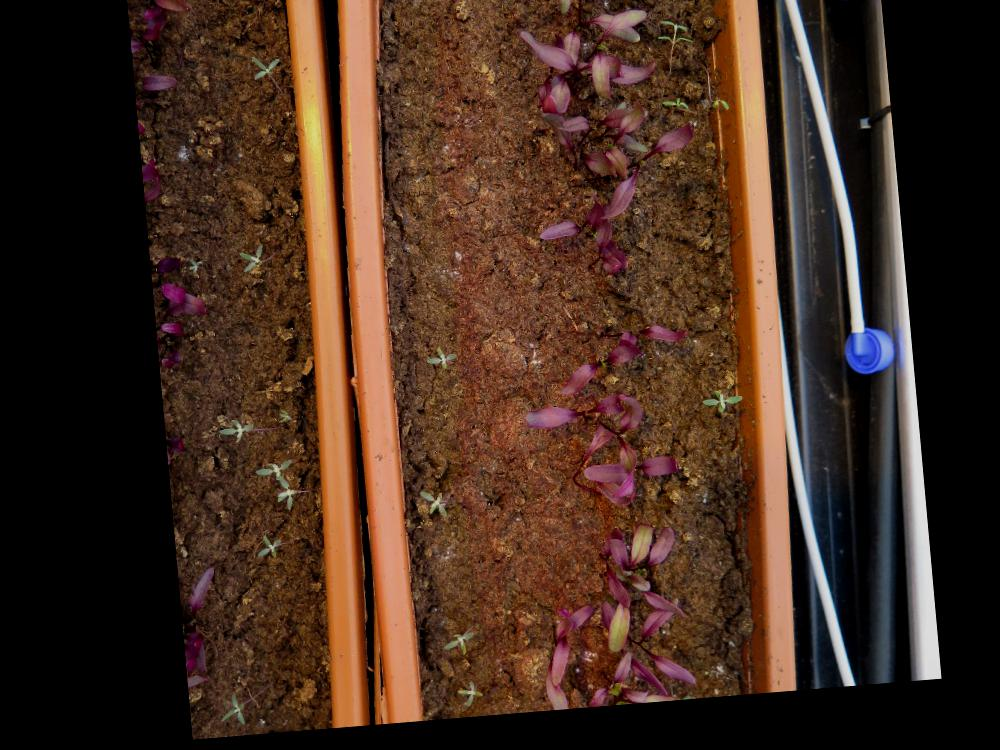weed: (690, 398, 740, 426), (208, 417, 251, 448), (204, 694, 235, 729), (428, 636, 465, 663), (418, 350, 454, 377), (408, 493, 438, 524), (442, 685, 473, 715), (249, 56, 281, 83), (233, 246, 262, 275), (245, 536, 274, 563), (656, 106, 690, 123), (182, 258, 200, 277), (267, 410, 286, 426)
